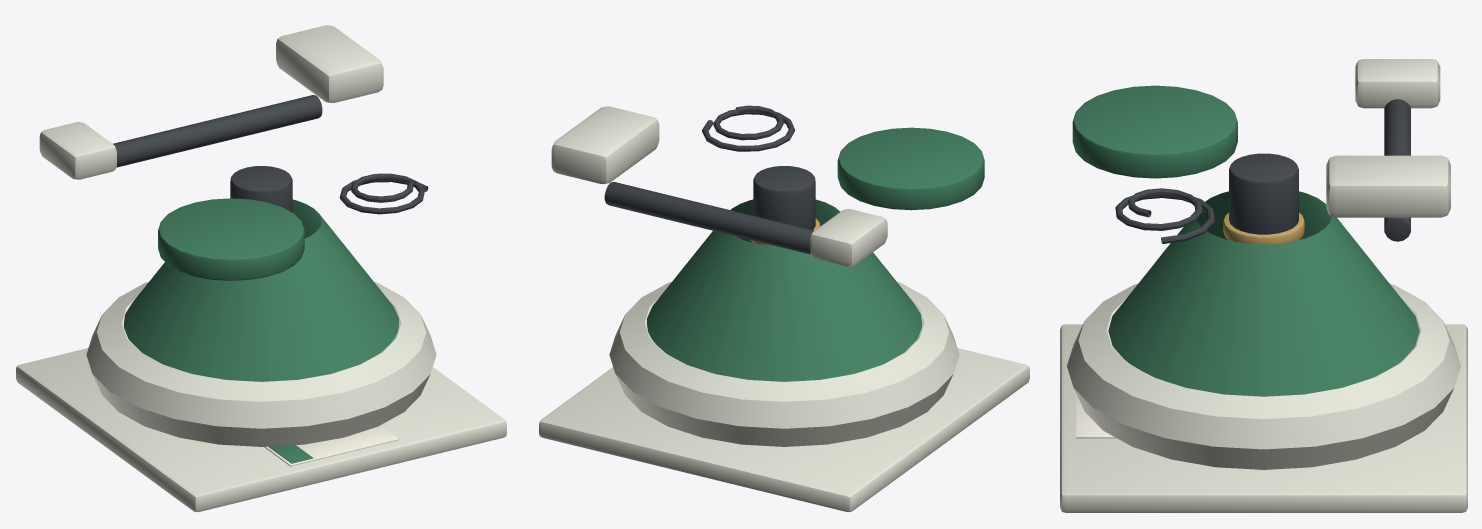
File: delivery_fixture_product_pendant.glb
3 views of the same model, side by side, from view 1: azimuth 30°, elevation 25°; view 2: azimuth 150°, elevation 25°; view 3: azimuth 270°, elevation 25° (orthographic). The views are drawn at different scales.
Parts seen in each view (by area): view 1: PENDANT_SHADE, PENDANT_FOAM_RING, PENDANT_MOULDED_INSERT, PENDANT_CEILING_CANOPY, PENDANT_TOP_FOAM_BRACE, PENDANT_DETACHED_STEM, PENDANT_STEM_END_CLIP, PENDANT_SOCKET, PENDANT_COILED_CORD, LIGHT1_PACKING_ID_LABEL; view 2: PENDANT_SHADE, PENDANT_MOULDED_INSERT, PENDANT_FOAM_RING, PENDANT_CEILING_CANOPY, PENDANT_TOP_FOAM_BRACE, PENDANT_DETACHED_STEM, PENDANT_SOCKET, PENDANT_STEM_END_CLIP, PENDANT_COILED_CORD; view 3: PENDANT_SHADE, PENDANT_FOAM_RING, PENDANT_MOULDED_INSERT, PENDANT_CEILING_CANOPY, PENDANT_TOP_FOAM_BRACE, PENDANT_SOCKET, PENDANT_STEM_END_CLIP, PENDANT_COILED_CORD, PENDANT_DETACHED_STEM, PENDANT_SOCKET_BRASS_COLLAR, LIGHT1_PACKING_ID_LABEL.
Boxes of the visible parts, bbox=[...] form: PENDANT_SHADE: bbox=[124, 199, 398, 381]; PENDANT_FOAM_RING: bbox=[86, 282, 436, 446]; PENDANT_MOULDED_INSERT: bbox=[16, 348, 506, 512]; PENDANT_CEILING_CANOPY: bbox=[158, 198, 304, 280]; PENDANT_TOP_FOAM_BRACE: bbox=[276, 25, 383, 102]; PENDANT_DETACHED_STEM: bbox=[113, 95, 322, 167]; PENDANT_STEM_END_CLIP: bbox=[39, 122, 116, 179]; PENDANT_SOCKET: bbox=[230, 166, 292, 212]; PENDANT_COILED_CORD: bbox=[339, 173, 428, 214]; LIGHT1_PACKING_ID_LABEL: bbox=[264, 425, 399, 466]; PENDANT_SHADE: bbox=[647, 199, 921, 381]; PENDANT_MOULDED_INSERT: bbox=[539, 348, 1029, 512]; PENDANT_FOAM_RING: bbox=[609, 282, 959, 446]; PENDANT_CEILING_CANOPY: bbox=[837, 127, 984, 210]; PENDANT_TOP_FOAM_BRACE: bbox=[551, 106, 659, 184]; PENDANT_DETACHED_STEM: bbox=[604, 182, 814, 254]; PENDANT_SOCKET: bbox=[753, 166, 815, 230]; PENDANT_STEM_END_CLIP: bbox=[810, 209, 887, 266]; PENDANT_COILED_CORD: bbox=[702, 105, 794, 151]; PENDANT_SHADE: bbox=[1108, 191, 1419, 396]; PENDANT_FOAM_RING: bbox=[1067, 283, 1460, 469]; PENDANT_MOULDED_INSERT: bbox=[1060, 324, 1467, 512]; PENDANT_CEILING_CANOPY: bbox=[1072, 85, 1237, 178]; PENDANT_TOP_FOAM_BRACE: bbox=[1326, 155, 1450, 217]; PENDANT_SOCKET: bbox=[1229, 153, 1298, 234]; PENDANT_STEM_END_CLIP: bbox=[1355, 59, 1440, 108]; PENDANT_COILED_CORD: bbox=[1115, 188, 1214, 243]; PENDANT_DETACHED_STEM: bbox=[1384, 99, 1410, 241]; PENDANT_SOCKET_BRASS_COLLAR: bbox=[1223, 213, 1304, 244]; LIGHT1_PACKING_ID_LABEL: bbox=[1076, 393, 1116, 438].
Size of the model in its own units: 0.36 by 0.32 by 0.36.
